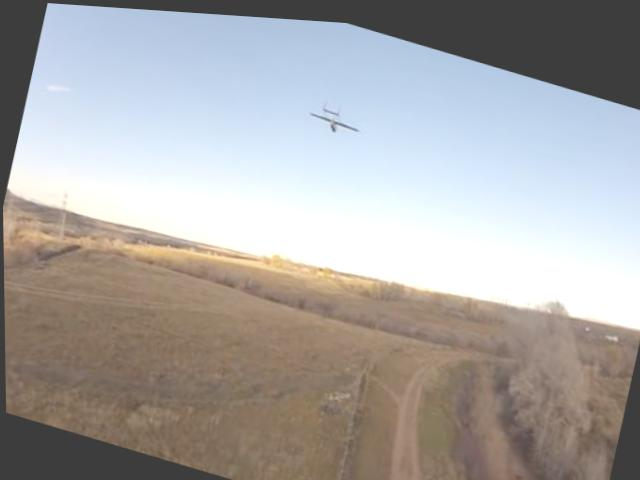uav: (306, 91, 365, 136)
